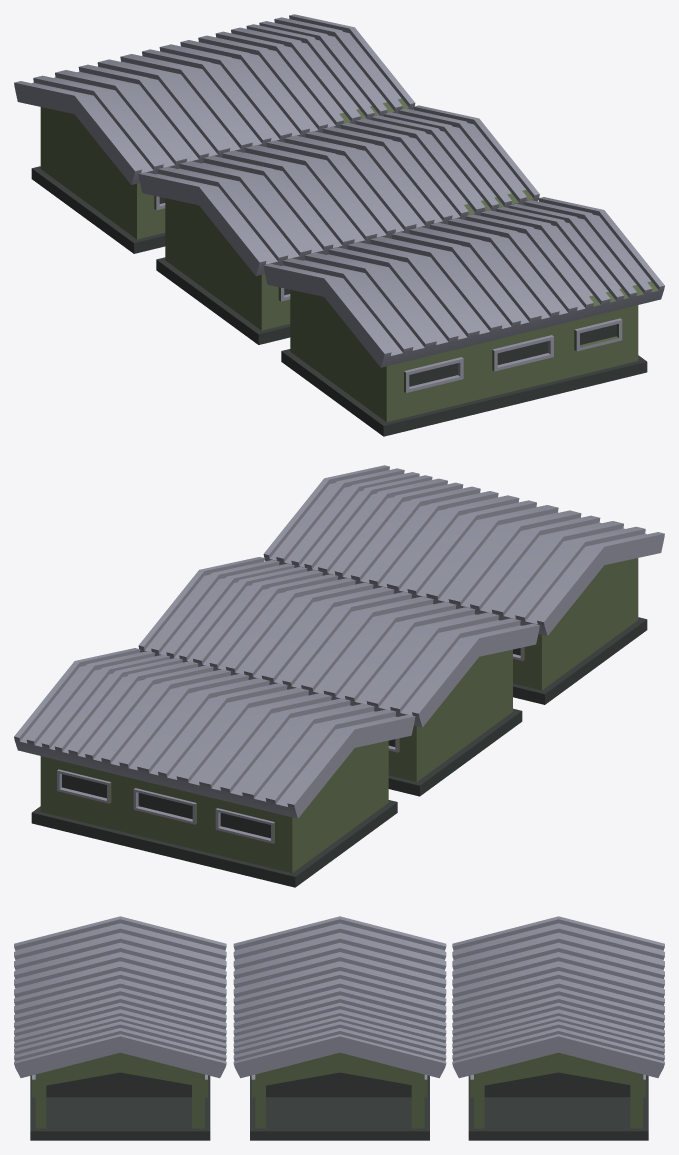
3 views of the same model, one above another, from view 1: azimuth 30°, elevation 25°; view 2: azimuth 150°, elevation 25°; view 3: azimuth 270°, elevation 25° (orthographic). The views are drawn at different scales.
Parts seen in each view (by area): view 1: 立方体_20; view 2: 立方体_20; view 3: 立方体_20.
Part boxes in pixels (x1,y1,x2,y2): 立方体_20: [14, 14, 664, 436]; 立方体_20: [14, 465, 664, 887]; 立方体_20: [14, 916, 664, 1140].
Bounding box in the file's own units: 130 × 54.56 × 298.
